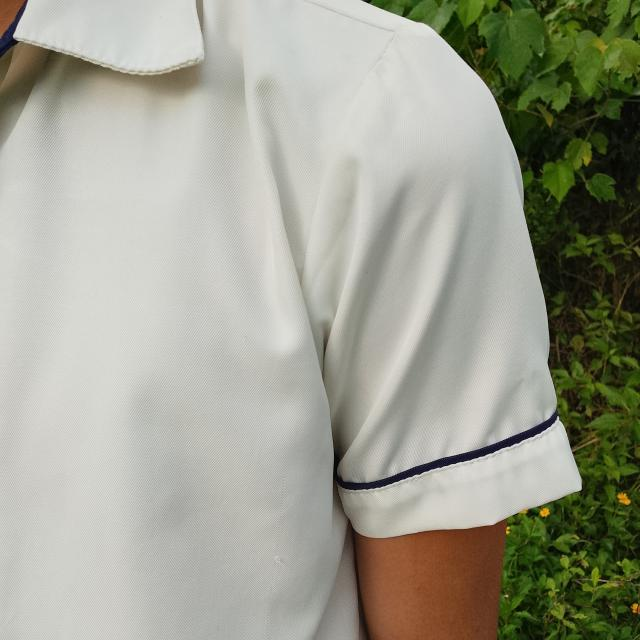education_male_uniform: (6, 3, 588, 594)
